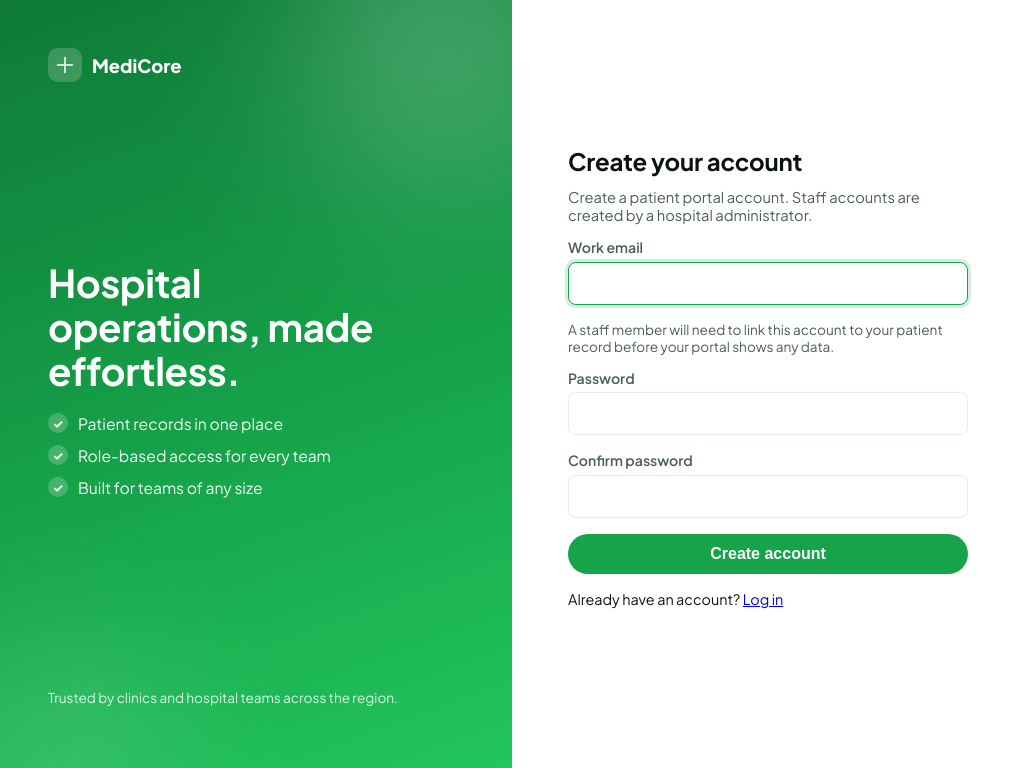
Test: RegisterPage › shows the server error message when registration fails
Type "new@hospital.test" into the field labelled "Work email".
click(768, 284); type("new@hospital.test")  # box [568,262,968,305]
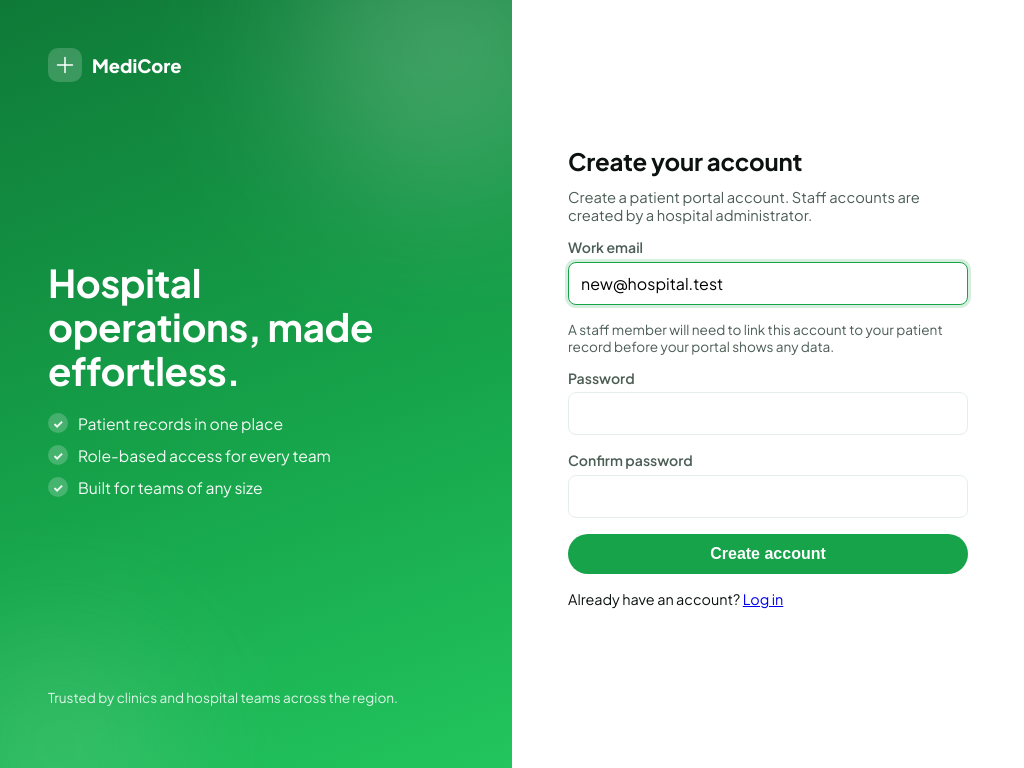
Type "Password123!" into the password field labelled "Password".
click(768, 414); type("Password123!")  # box [568,392,968,435]
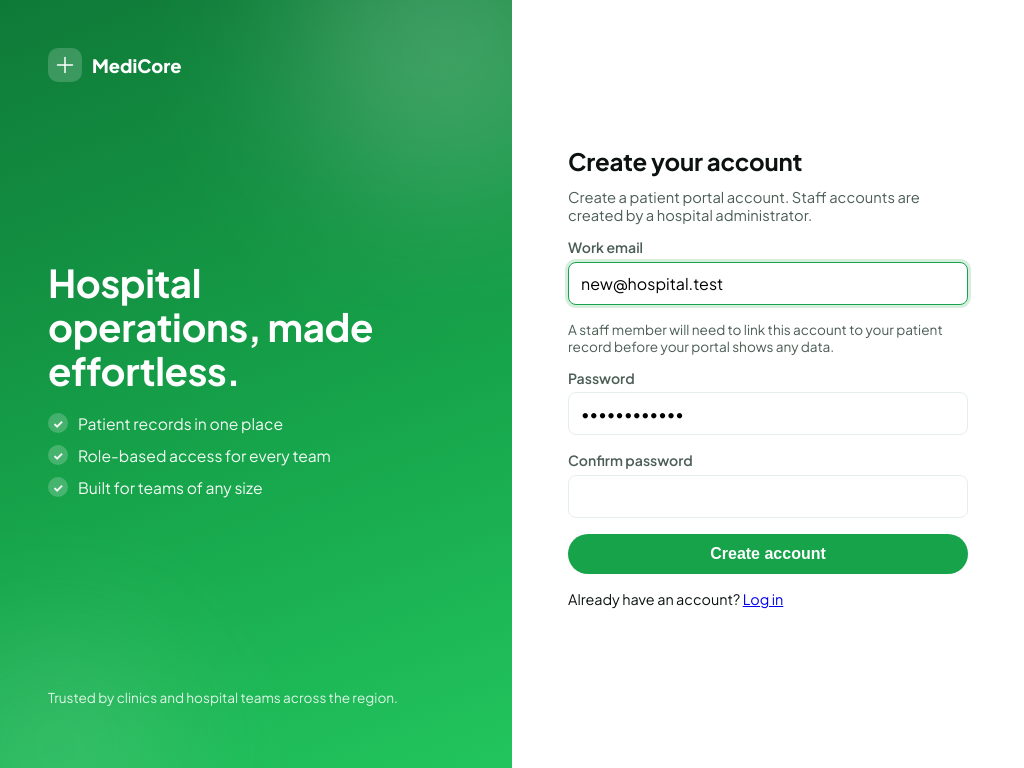
Type "Password123!" into the password field labelled "Confirm password".
click(768, 496); type("Password123!")  # box [568,475,968,518]
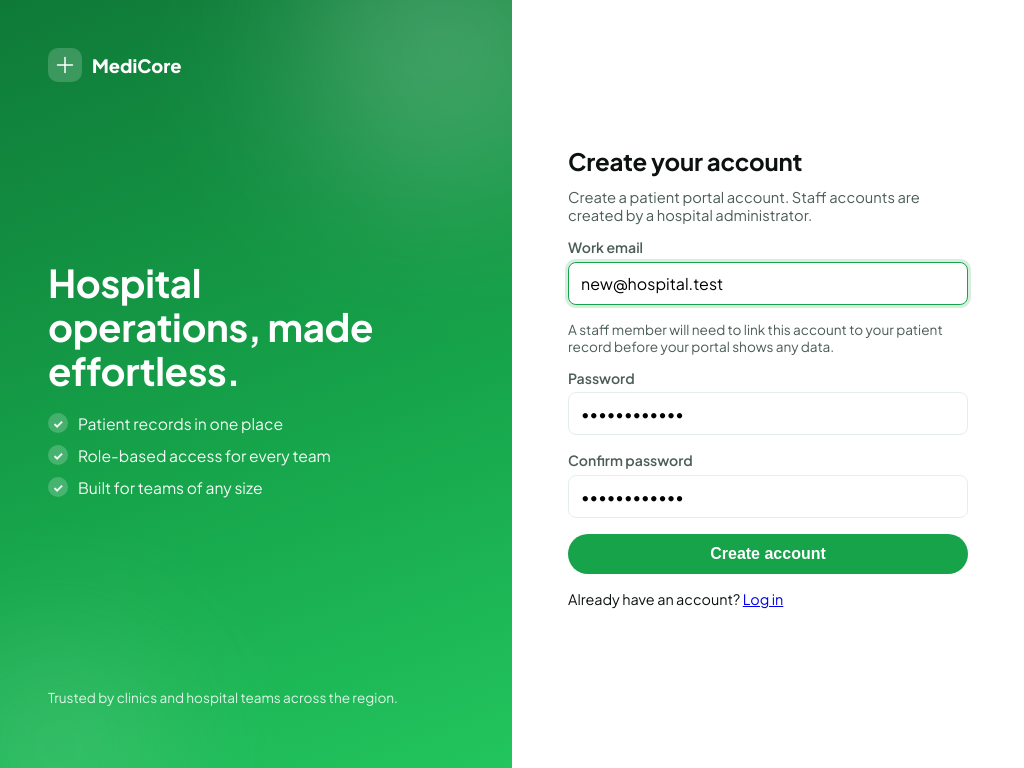
Click the button "Create account".
click(768, 554)  # box [568,534,968,574]
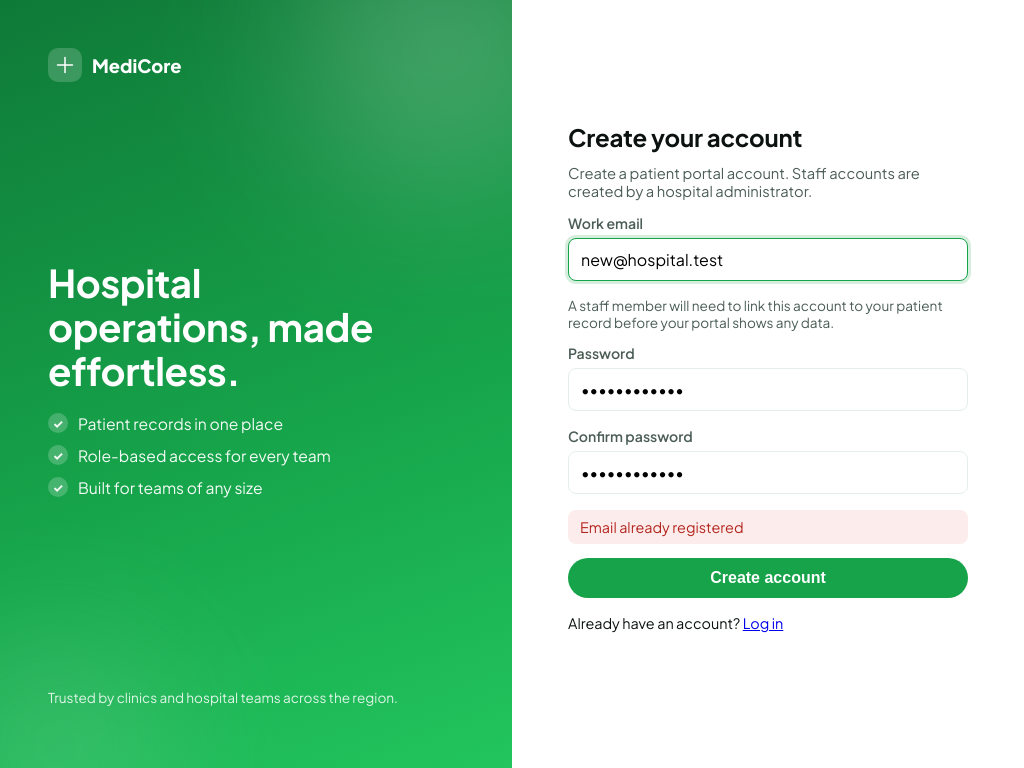
Result: the text "Email already registered" is shown at [568,510,968,544]
